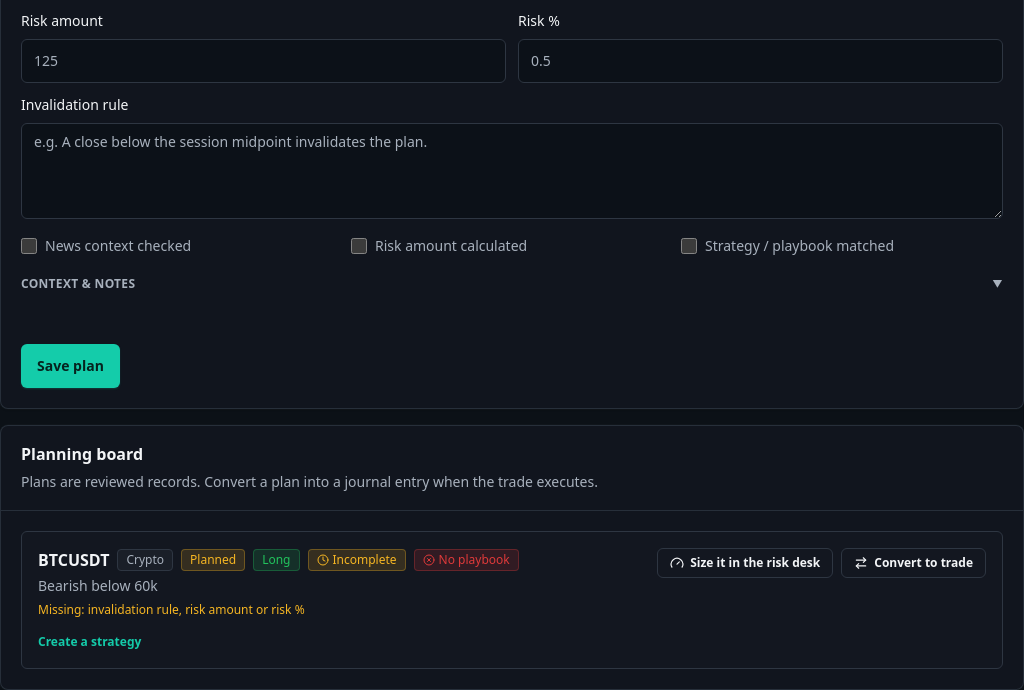
Test: converting a plan › uses the plan's chosen direction for the side it shows
(page scrolled)
Click the button "Convert to trade". click: (914, 563)
box: [841,548,986,578]
(page scrolled)
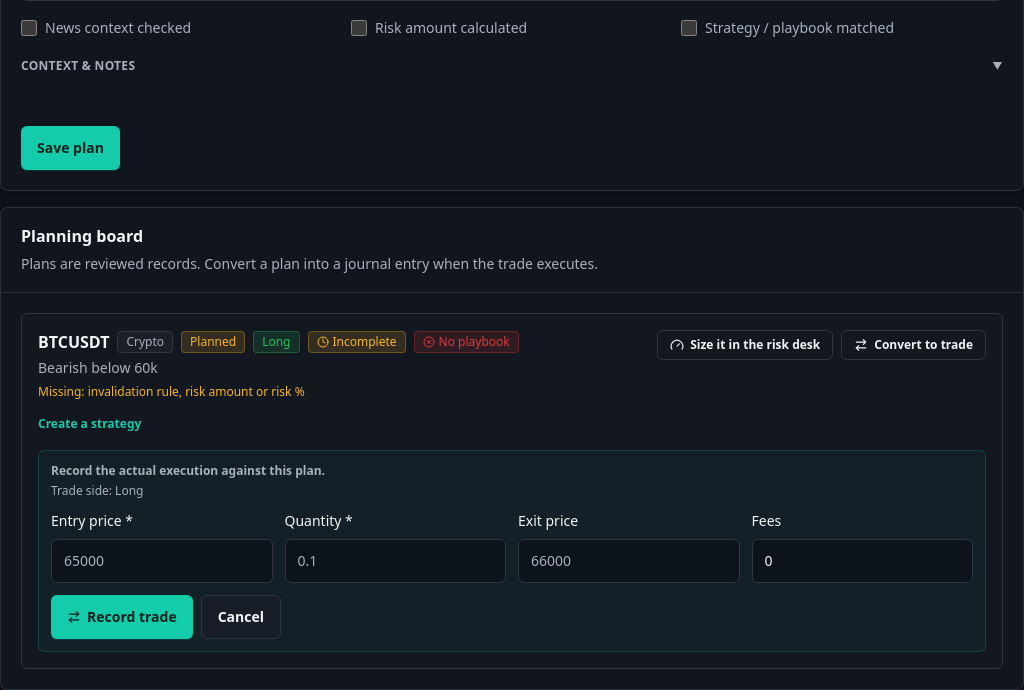
Check: the text "Trade side: Long" is shown, box [51,482,144,499]
